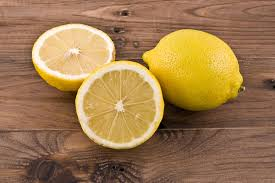Lemon: (141, 18, 237, 112)
